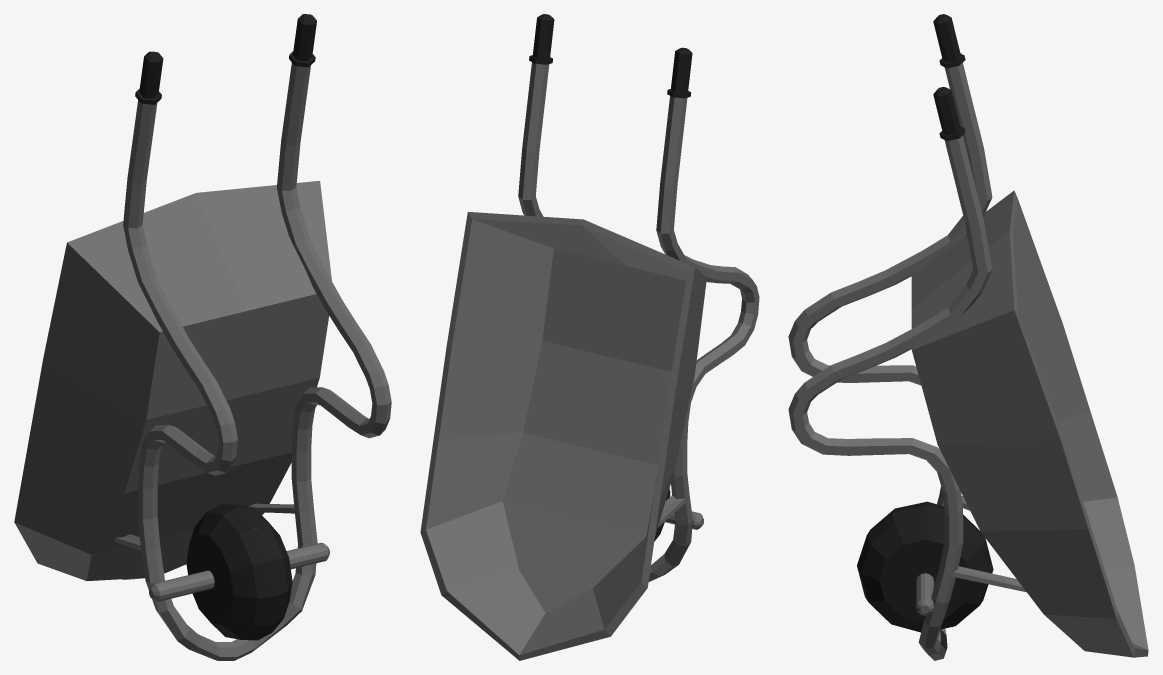
File: Farmi_Kottikärryt_Pystyssä.fbx
3 renders of one model, left to right at view 1: azimuth 30°, elevation 25°; view 2: azimuth 150°, elevation 25°; view 3: azimuth 270°, elevation 25°, orthographic. The views are drawn at different scales.
Visible parts, largest first — view 1: Kottikärryt_Pystyssä; view 2: Kottikärryt_Pystyssä; view 3: Kottikärryt_Pystyssä.
Part boxes in pixels (x1,y1,x2,y2): Kottikärryt_Pystyssä: (14,14,391,660); Kottikärryt_Pystyssä: (420,14,759,660); Kottikärryt_Pystyssä: (788,14,1148,660).
Bounding box in the file's own units: 59.95 × 141 × 76.15.
